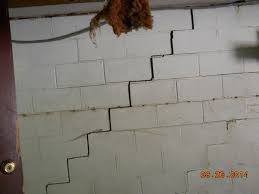stairstep_crack: (44, 8, 195, 193)
